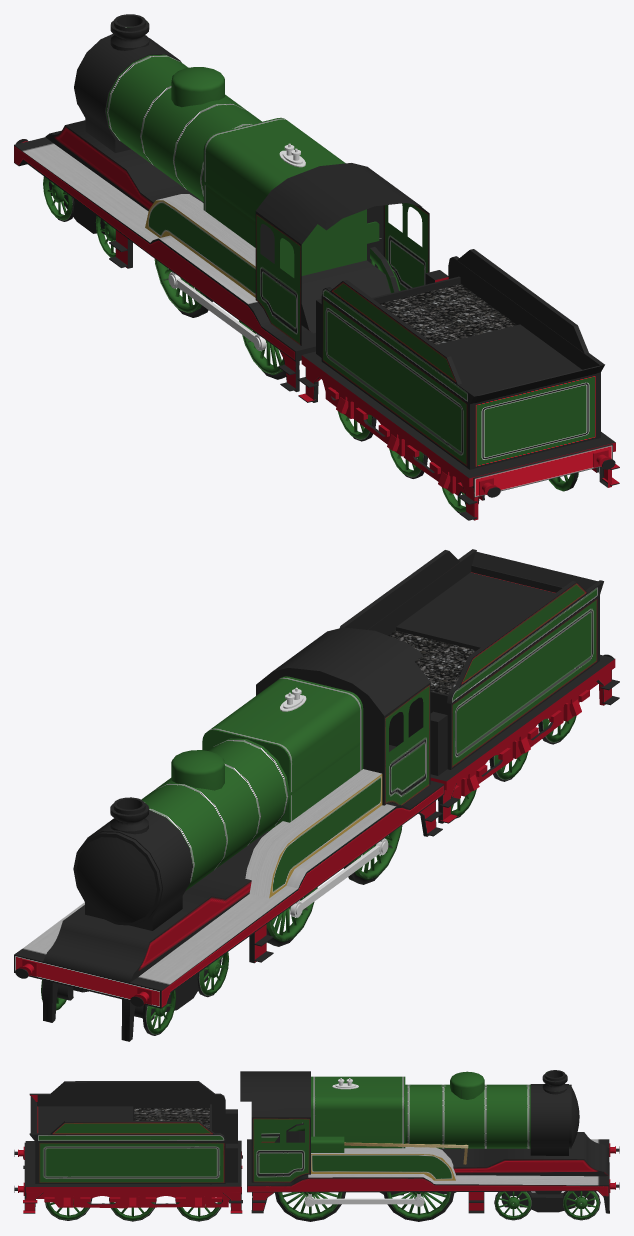
File: Steam train-007.glb
3 renders of one model, top to bottom at view 1: azimuth 30°, elevation 25°; view 2: azimuth 150°, elevation 25°; view 3: azimuth 270°, elevation 25°, orthographic. The views are drawn at different scales.
Parts seen in each view (by area): view 1: chassis, Coal, water_cylinder, wheel_bit, big_wheel, big_wheel_2, wheel_1_5; view 2: chassis, Coal, water_cylinder, wheel_bit, big_wheel, big_wheel_2, wheel, wheel_1_5, stoppers; view 3: chassis, Coal, water_cylinder, arm, big_wheel_1, big_wheel_1_2, wheel_bit_1, wheel_1_1_4, wheel_1_4, chassis_bits_1_3, chassis_bits_1_2, wheel_1_1 (+3 smaller).
Boxes of the visible parts, x1,y1,x2,y2 form: chassis: (14, 35, 429, 391); Coal: (297, 249, 619, 520); water_cylinder: (74, 14, 261, 221); wheel_bit: (168, 271, 266, 350); big_wheel: (154, 259, 212, 317); big_wheel_2: (239, 320, 285, 379); wheel_1_5: (43, 176, 74, 221); chassis: (14, 627, 444, 1041); Coal: (340, 549, 619, 823); water_cylinder: (73, 738, 359, 925); wheel_bit: (290, 838, 388, 917); big_wheel: (266, 887, 317, 946); big_wheel_2: (344, 825, 402, 884); wheel: (197, 952, 228, 997); wheel_1_5: (142, 990, 175, 1035); stoppers: (15, 959, 152, 1006); chassis: (240, 1071, 609, 1213); Coal: (23, 1081, 242, 1213); water_cylinder: (405, 1070, 579, 1148); arm: (311, 1136, 468, 1164); big_wheel_1: (383, 1192, 454, 1221); big_wheel_1_2: (275, 1192, 345, 1221); wheel_bit_1: (304, 1193, 424, 1206); wheel_1_1_4: (562, 1191, 600, 1220); wheel_1_4: (494, 1191, 532, 1220); chassis_bits_1_3: (109, 1192, 156, 1207); chassis_bits_1_2: (44, 1192, 90, 1207); wheel_1_1: (45, 1198, 92, 1220).
Size of the model in its own units: 1.77 by 2.24 by 9.45.
Materials: 10 (10 with a texture image).
